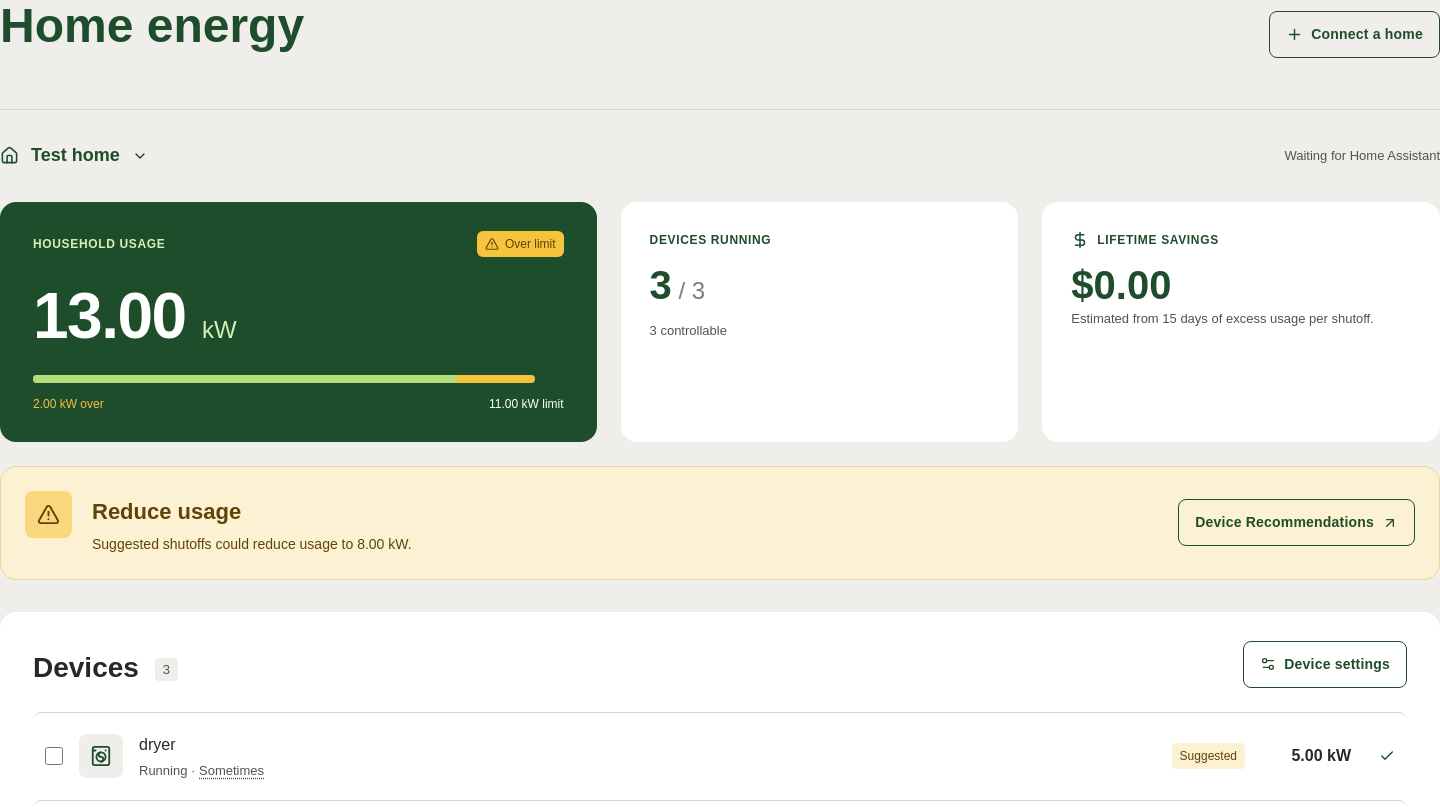
Scenario: shutoff approval safety › opens recommended devices preselected and turns off only the checked devices
This screenshot has width=1440, height=810.
Click the button "Device Recommendations" at (1297, 523), box [1178,499,1415,546]
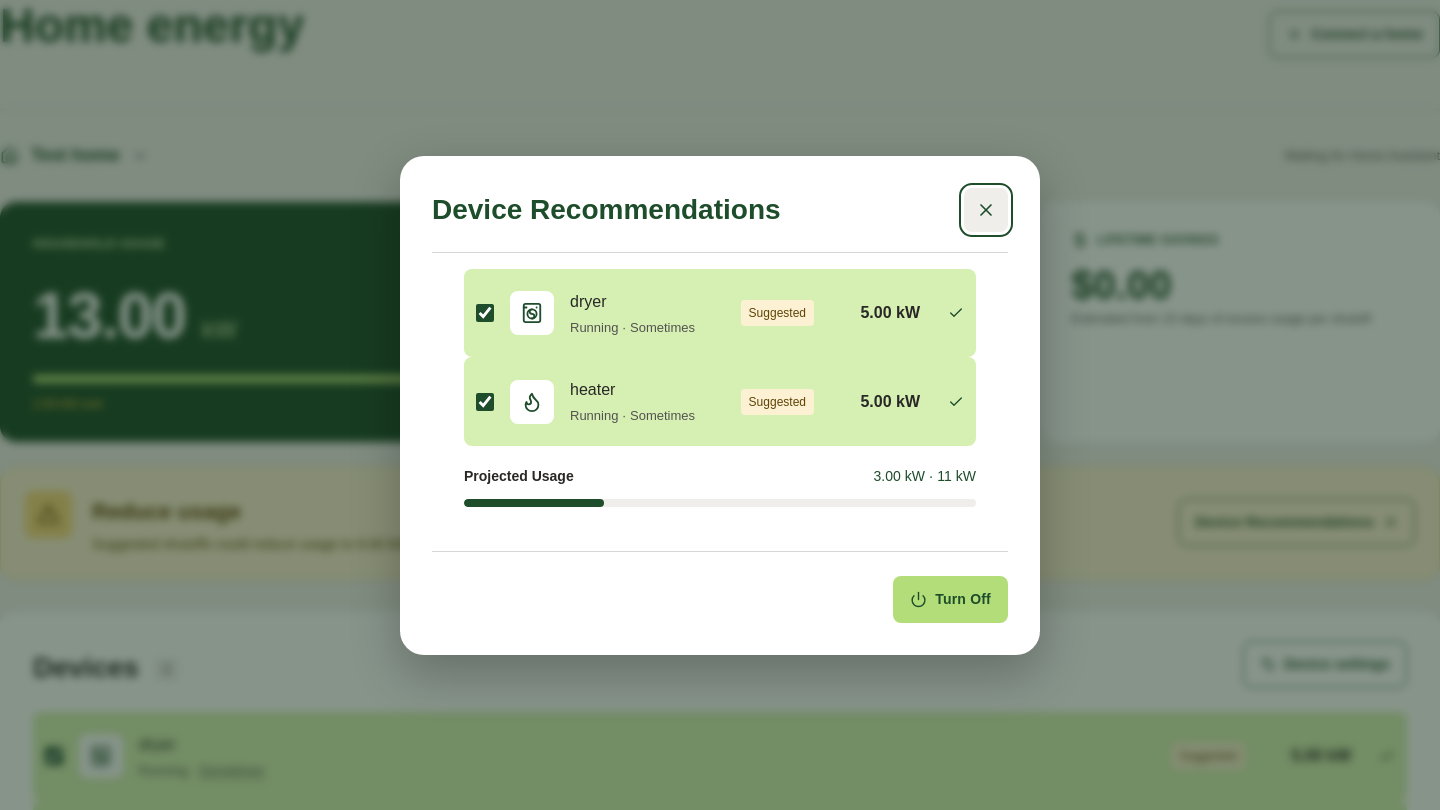
Check: the checkbox named "Select dryer" is checked, box [476,304,494,322]
Check: the checkbox named "Select heater" is checked
Click the checkbox named "Select heater" at (485, 402), box [476,393,494,411]
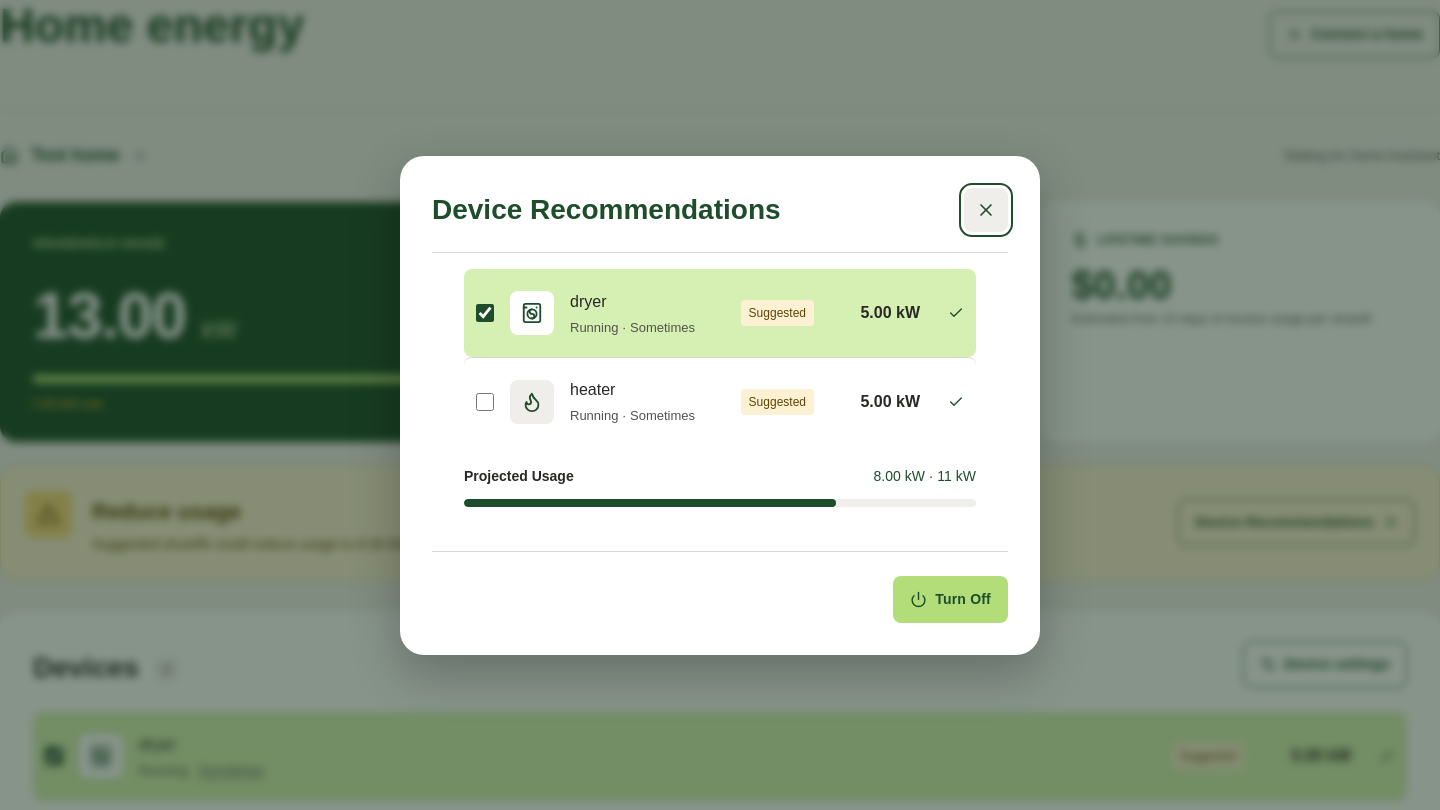
Click the button "Turn Off" at (951, 599), box [893,576,1008,622]
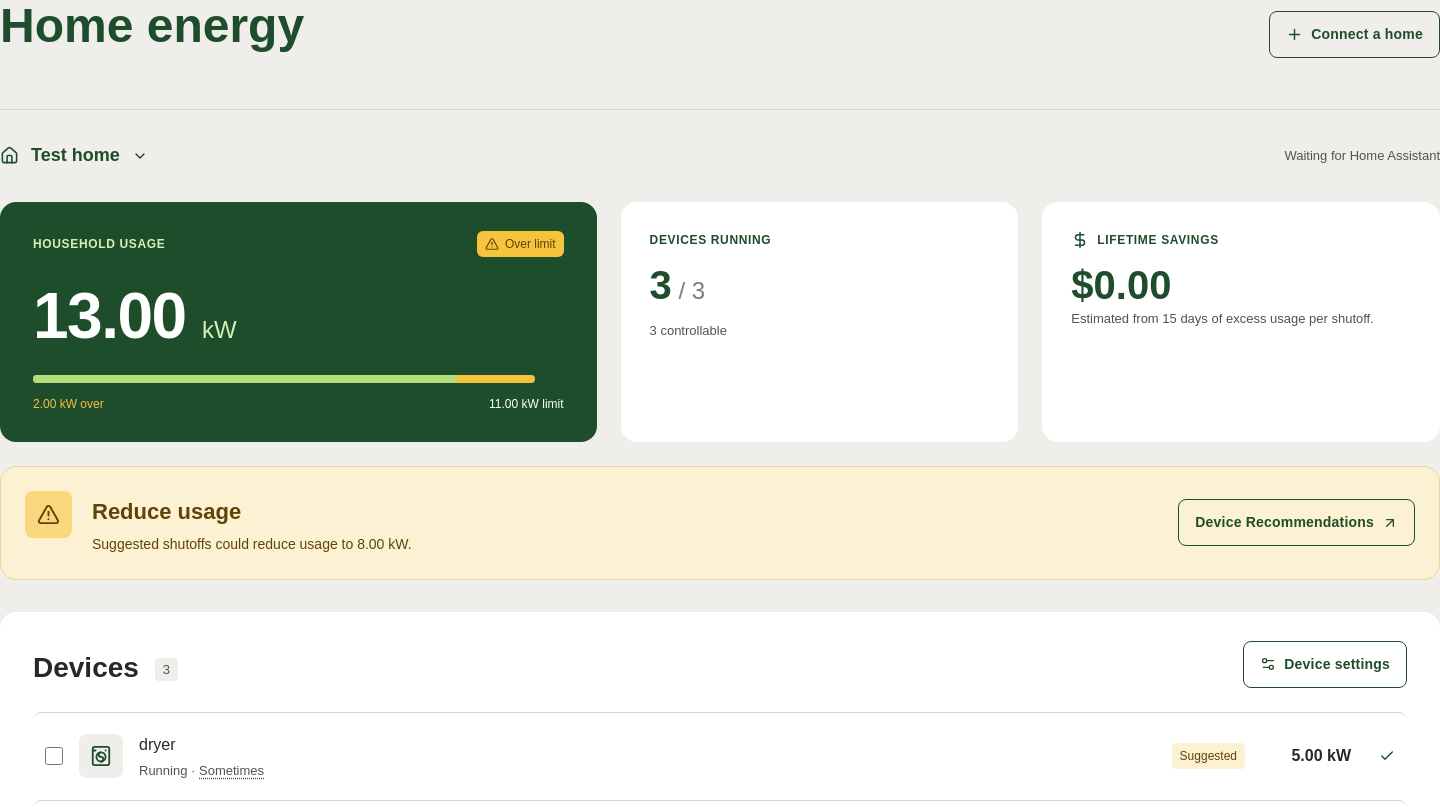
Check: the dialog is gone
